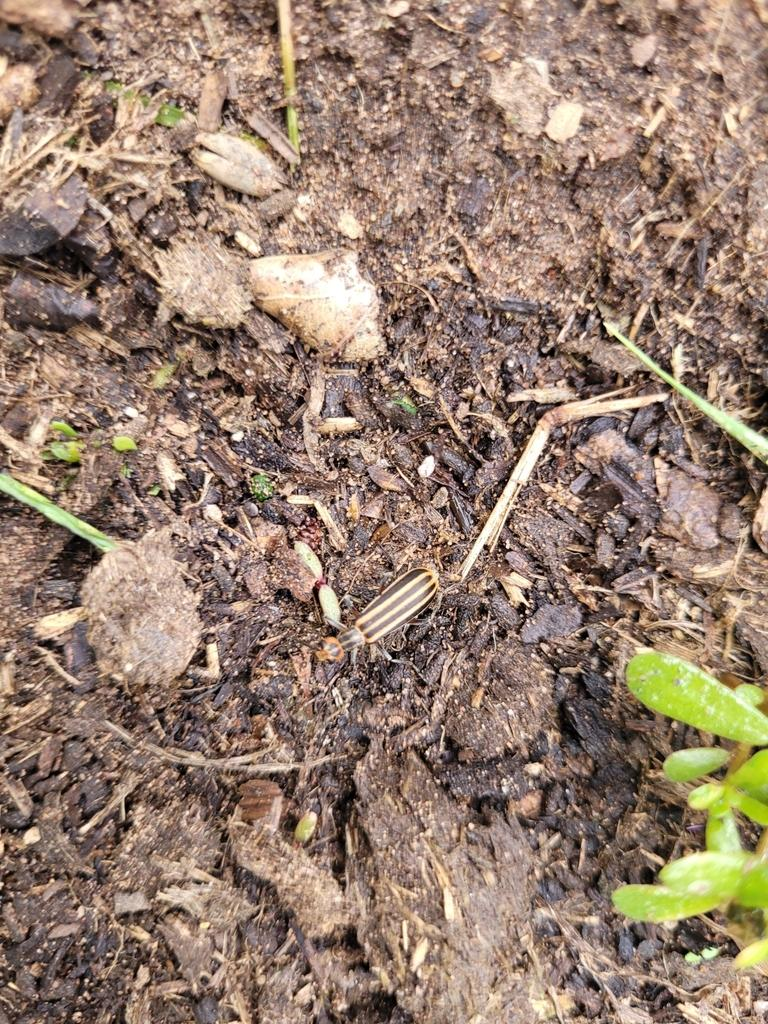blister_beetle: (282, 533, 484, 716)
